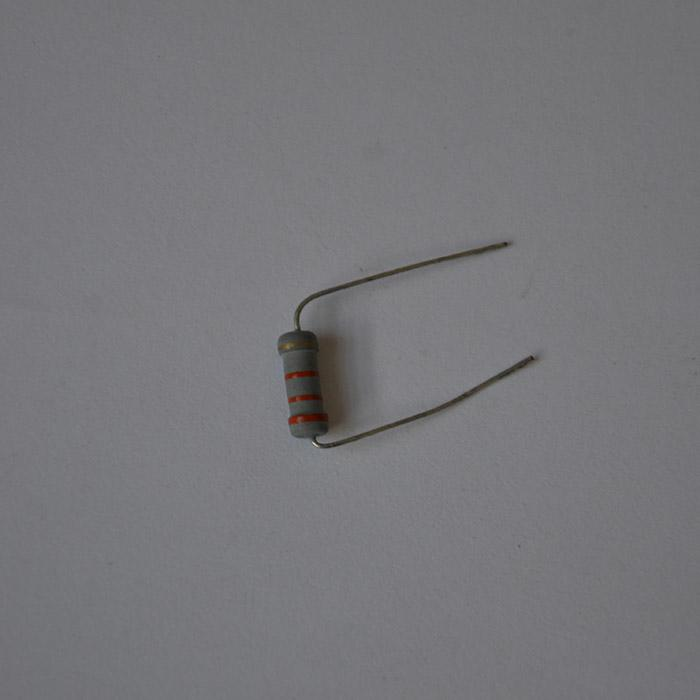resistor: (276, 327, 329, 440)
